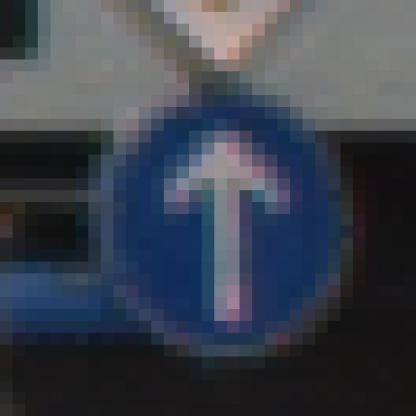AheadOnly: (77, 60, 341, 346)
